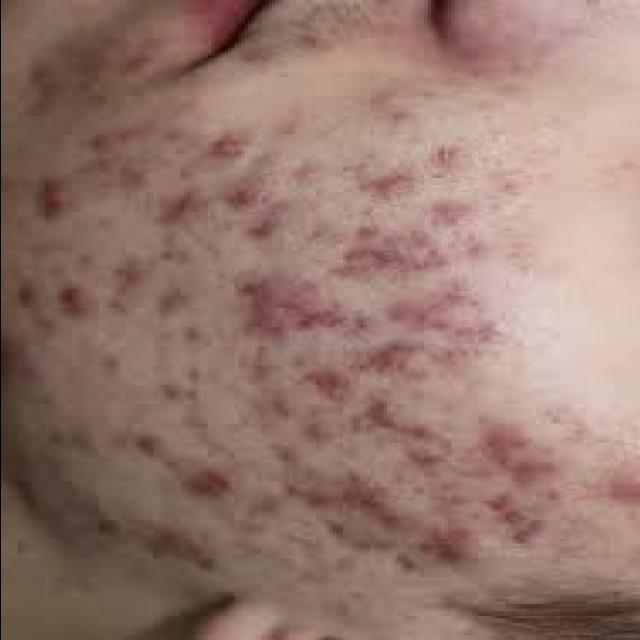Acne: (236, 273, 351, 341), (284, 474, 404, 533), (347, 224, 437, 279), (480, 424, 561, 477), (410, 524, 486, 574), (390, 287, 478, 330), (488, 494, 554, 550), (152, 188, 218, 232), (34, 175, 92, 225), (360, 338, 428, 380), (178, 462, 242, 504), (203, 126, 265, 168), (297, 364, 359, 406), (424, 196, 486, 232), (419, 142, 473, 182), (221, 178, 277, 212), (55, 284, 103, 320), (368, 172, 417, 204)
